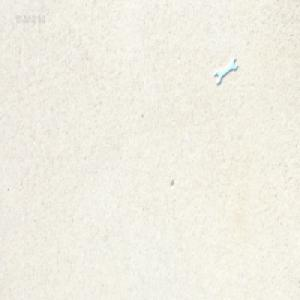Wrench: (214, 57, 238, 85)
